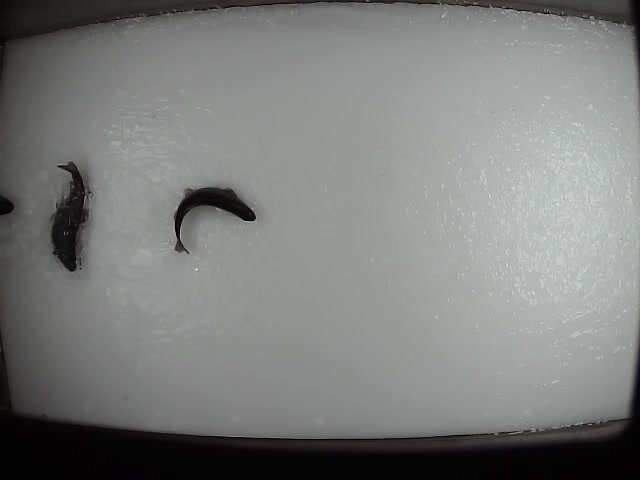Fish: (174, 188, 256, 254), (51, 162, 89, 271)
